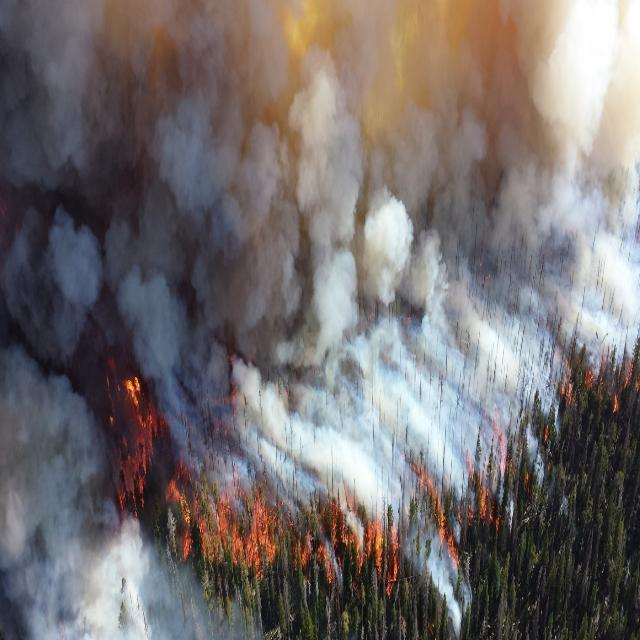Fire: (184, 460, 309, 618), (308, 485, 429, 636), (425, 457, 546, 596), (102, 343, 175, 519), (548, 349, 640, 437)
Smoke: (193, 61, 430, 352), (462, 28, 640, 283), (20, 25, 169, 277), (12, 261, 73, 640)
